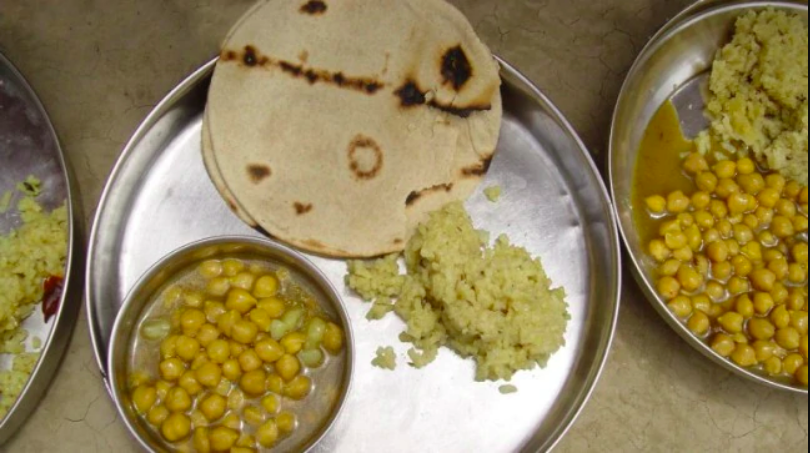curry: (631, 134, 810, 381), (134, 258, 324, 453)
rice: (359, 206, 579, 380), (1, 177, 85, 403), (709, 2, 810, 148)
roti: (203, 3, 523, 264)
